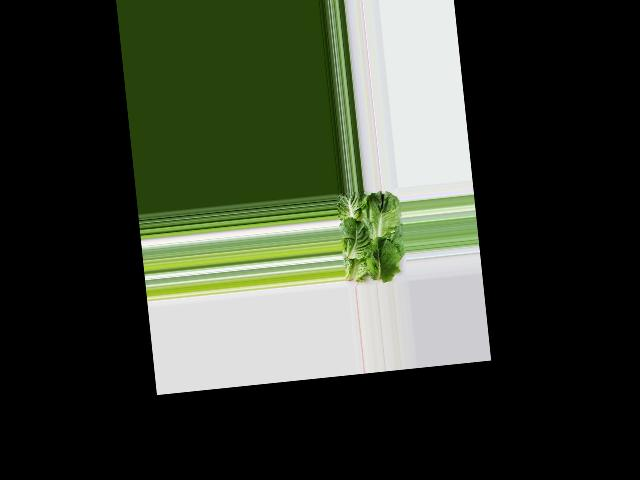lettuce: (335, 189, 406, 284)
